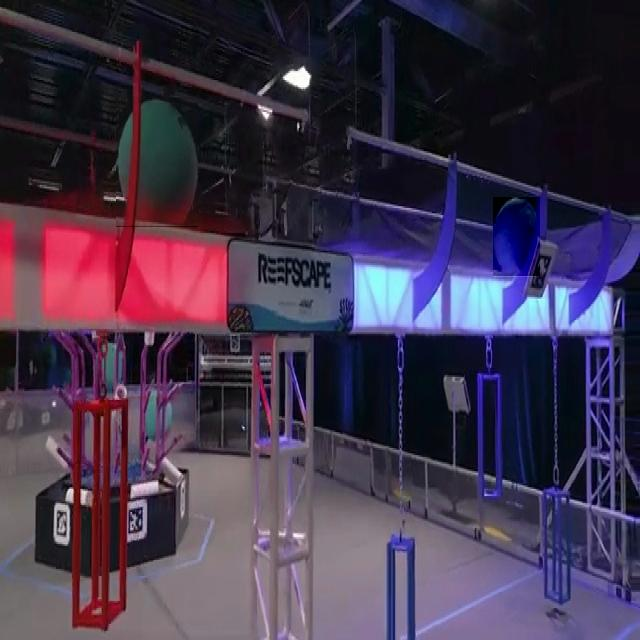Algae: (116, 98, 198, 228), (493, 198, 540, 278)
